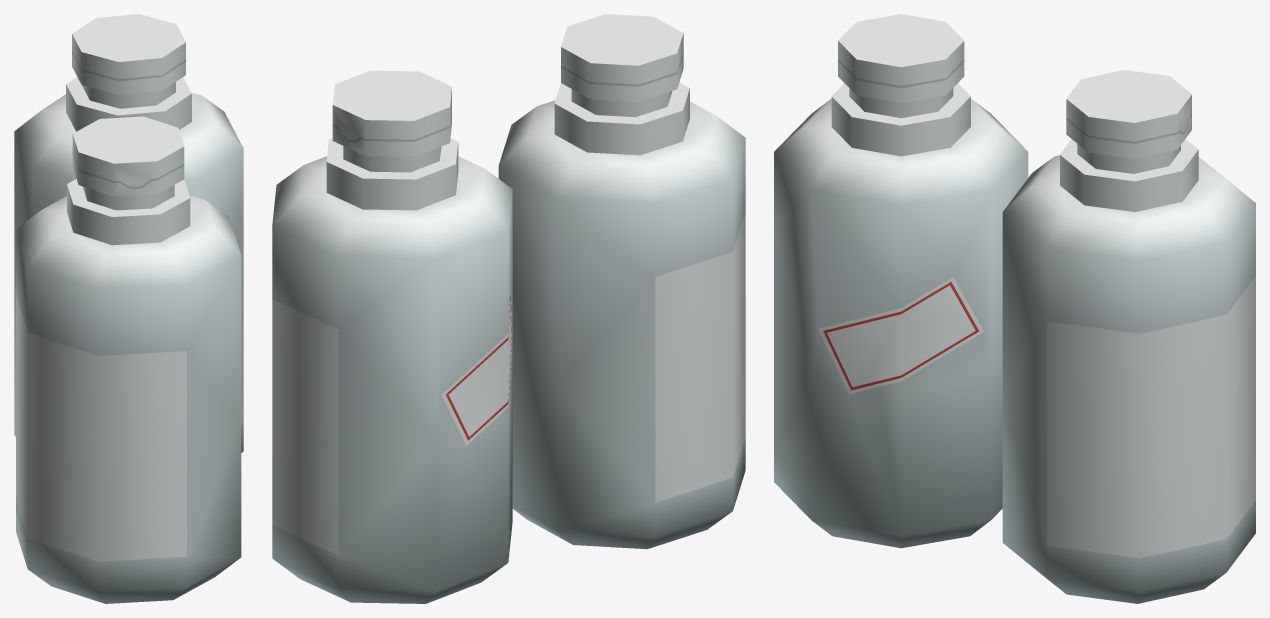
The model's file is CR_sci_Bottle_001.FBX.
3 views of the same model, side by side, from view 1: azimuth 30°, elevation 25°; view 2: azimuth 150°, elevation 25°; view 3: azimuth 270°, elevation 25° (orthographic). The views are drawn at different scales.
Parts seen in each view (by area): view 1: CR_sci_Bottle_001; view 2: CR_sci_Bottle_001; view 3: CR_sci_Bottle_001.
Part boxes in pixels (x1,y1,x2,y2): CR_sci_Bottle_001: [14, 14, 243, 603]; CR_sci_Bottle_001: [272, 14, 745, 603]; CR_sci_Bottle_001: [774, 14, 1255, 603].
Size of the model in its own units: 12.22 by 16.3 by 15.25.
